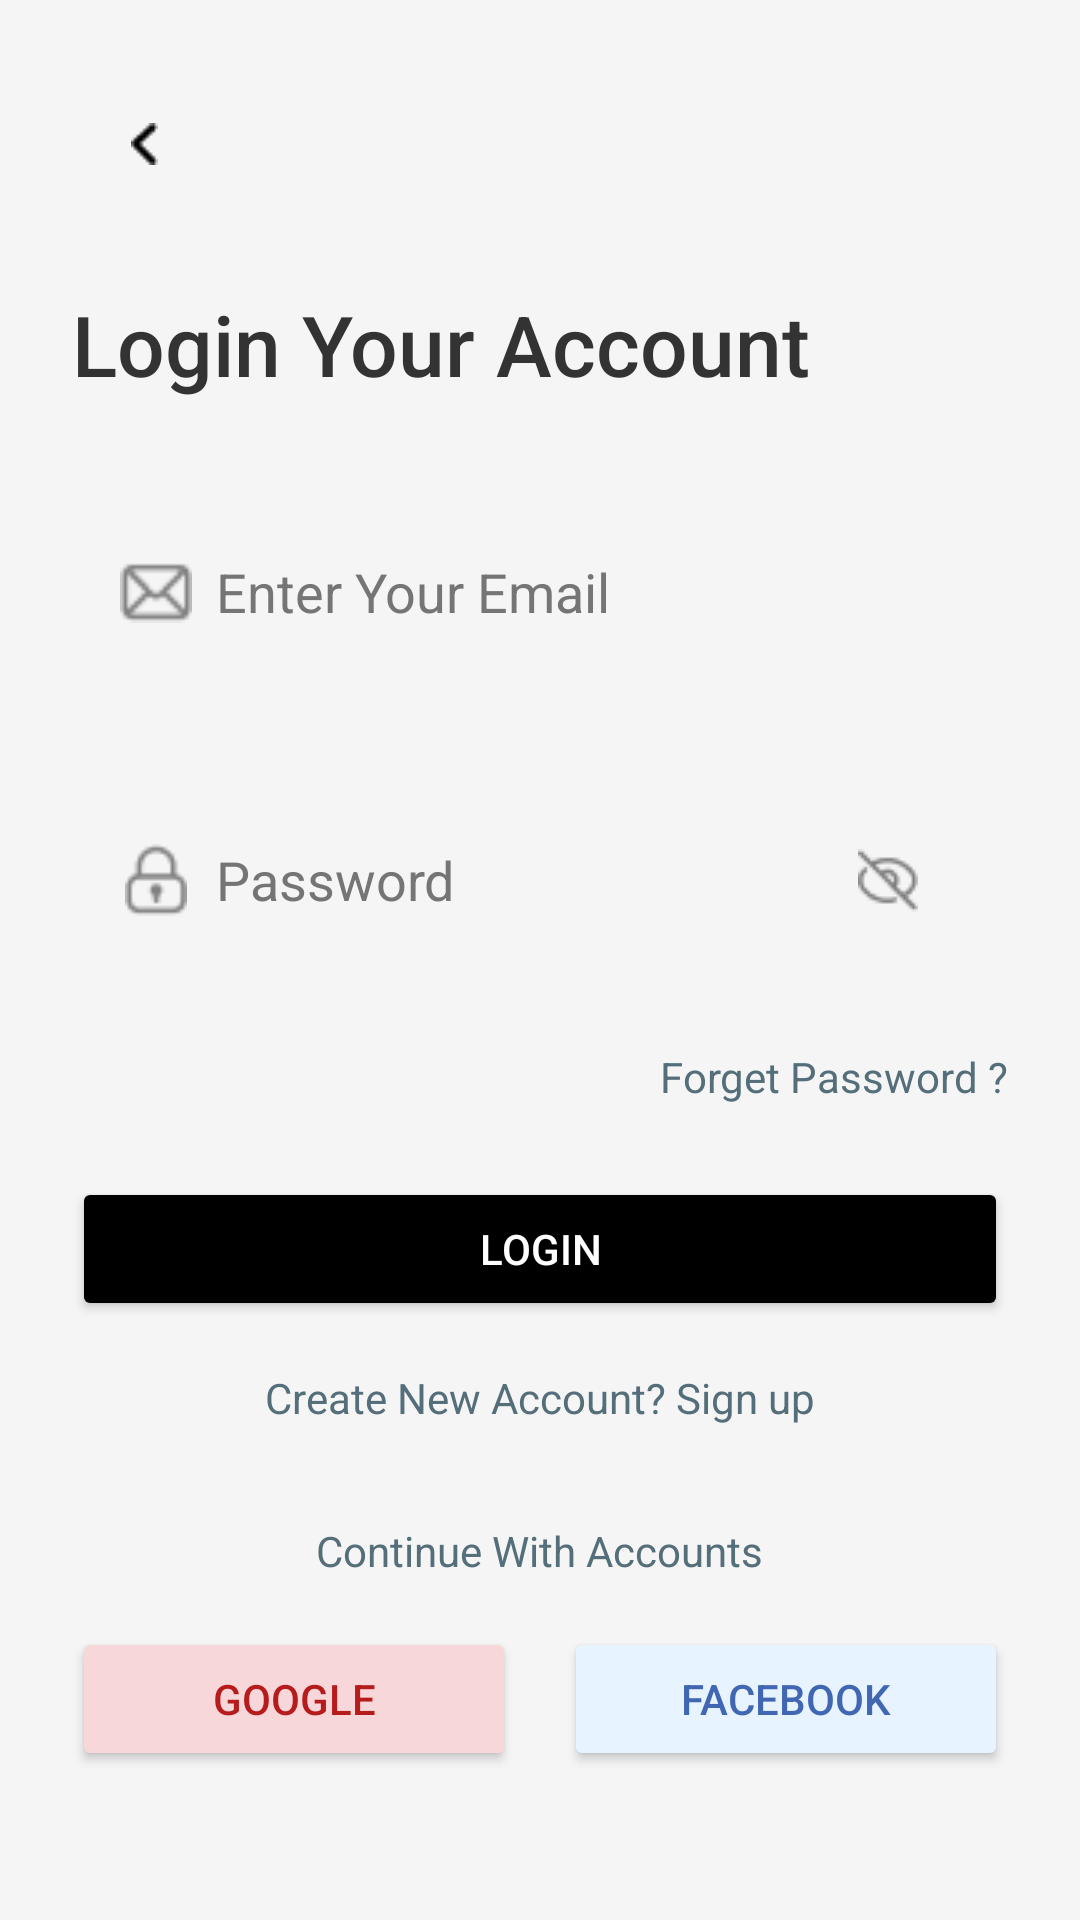

Named icons in this screenshot (1080 × 1920) and their bounding boxes, box=[x1, y1, x2, y2]:
Back: box=[131, 123, 158, 165]
